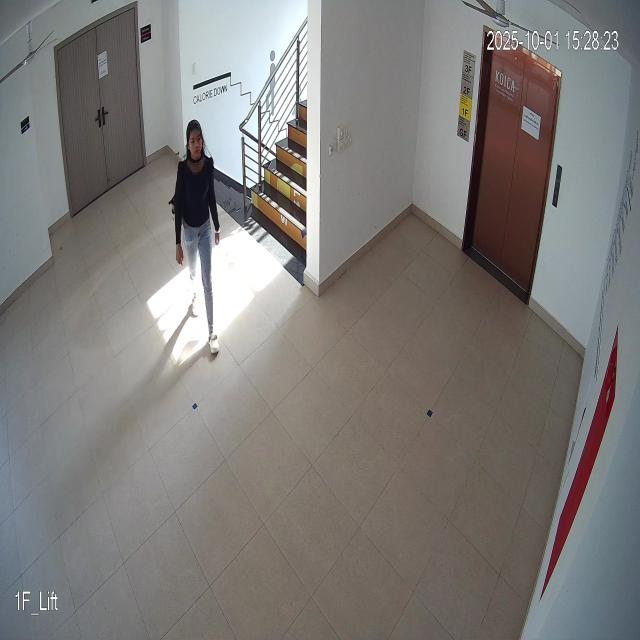face: (185, 117, 206, 166)
